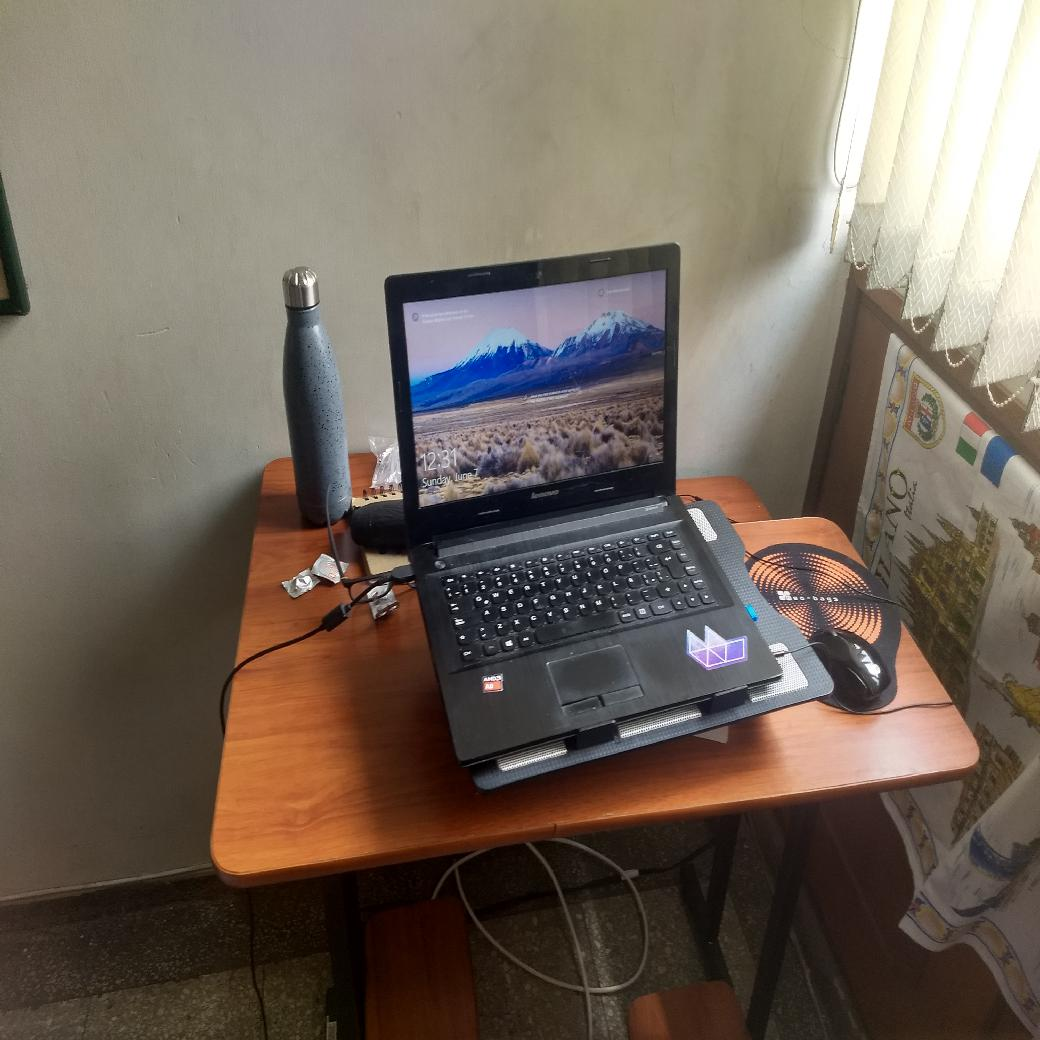laptop: (388, 242, 782, 769)
